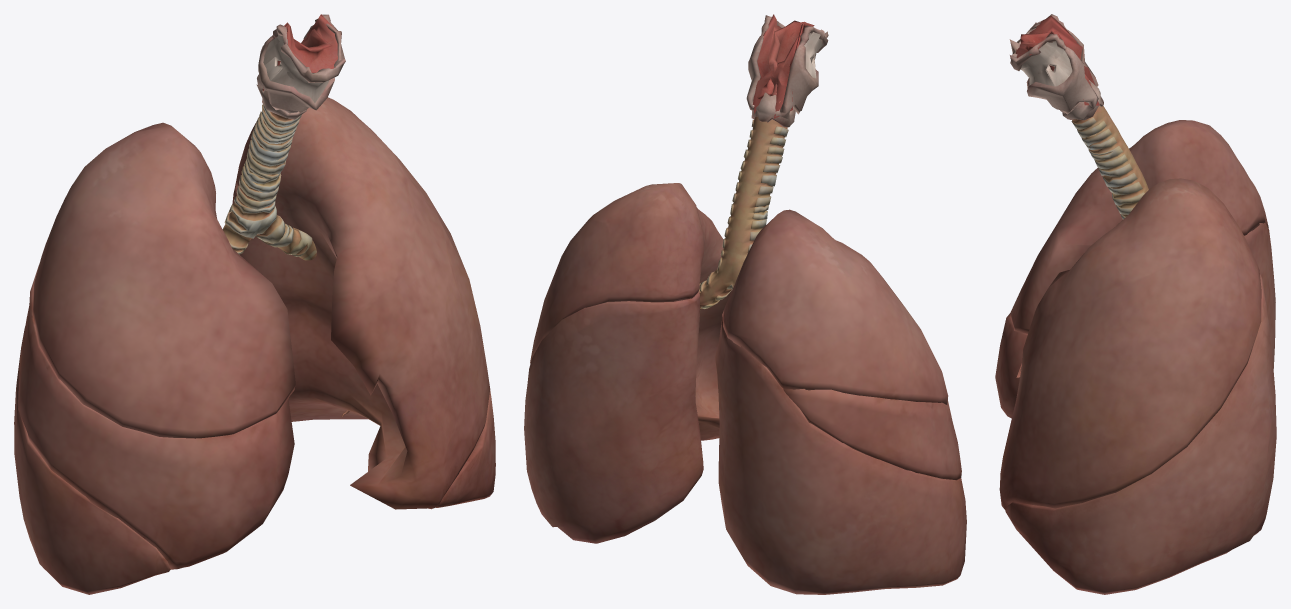
The model's file is lungs.glb.
3 renders of one model, left to right at view 1: azimuth 30°, elevation 25°; view 2: azimuth 150°, elevation 25°; view 3: azimuth 270°, elevation 25°, orthographic. The views are drawn at different scales.
Parts seen in each view (by area): view 1: Respiratoy_Lung_Geo_Right_Male_Anatomy_Pack_Complete_V05:Mal, Respiratoy_Lung_Geo_Left_Male_Anatomy_Pack_Complete_V05:Male, Respiratoy_Trachea_Geo_Male_Anatomy_Pack_Complete_V05:Male_R, Respiratoy_Thyroid_Cartliage_Geo_Male_Anatomy_Pack_Complete_, Respiratoy_Epiglotis_Geo_Male_Anatomy_Pack_Complete_V05:Male, Respiratoy_Thyroid_Membrane_Geo_Male_Anatomy_Pack_Complete_V; view 2: Respiratoy_Lung_Geo_Right_Male_Anatomy_Pack_Complete_V05:Mal, Respiratoy_Lung_Geo_Left_Male_Anatomy_Pack_Complete_V05:Male, Respiratoy_Trachea_Geo_Male_Anatomy_Pack_Complete_V05:Male_R, Respiratoy_Thyroid_Cartliage_Geo_Male_Anatomy_Pack_Complete_, Respiratoy_Epiglotis_Geo_Male_Anatomy_Pack_Complete_V05:Male; view 3: Respiratoy_Lung_Geo_Left_Male_Anatomy_Pack_Complete_V05:Male, Respiratoy_Lung_Geo_Right_Male_Anatomy_Pack_Complete_V05:Mal, Respiratoy_Trachea_Geo_Male_Anatomy_Pack_Complete_V05:Male_R, Respiratoy_Thyroid_Cartliage_Geo_Male_Anatomy_Pack_Complete_, Respiratoy_Thyroid_Membrane_Geo_Male_Anatomy_Pack_Complete_V, Respiratoy_Epiglotis_Geo_Male_Anatomy_Pack_Complete_V05:Male.
Boxes of the visible parts, x1=… form: Respiratoy_Lung_Geo_Right_Male_Anatomy_Pack_Complete_V05:Mal: x1=14, y1=122, x2=295, y2=594; Respiratoy_Lung_Geo_Left_Male_Anatomy_Pack_Complete_V05:Male: x1=232, y1=97, x2=495, y2=509; Respiratoy_Trachea_Geo_Male_Anatomy_Pack_Complete_V05:Male_R: x1=222, y1=104, x2=316, y2=260; Respiratoy_Thyroid_Cartliage_Geo_Male_Anatomy_Pack_Complete_: x1=256, y1=14, x2=345, y2=119; Respiratoy_Epiglotis_Geo_Male_Anatomy_Pack_Complete_V05:Male: x1=263, y1=14, x2=337, y2=90; Respiratoy_Thyroid_Membrane_Geo_Male_Anatomy_Pack_Complete_V: x1=263, y1=32, x2=329, y2=102; Respiratoy_Lung_Geo_Right_Male_Anatomy_Pack_Complete_V05:Mal: x1=715, y1=209, x2=966, y2=594; Respiratoy_Lung_Geo_Left_Male_Anatomy_Pack_Complete_V05:Male: x1=524, y1=183, x2=731, y2=543; Respiratoy_Trachea_Geo_Male_Anatomy_Pack_Complete_V05:Male_R: x1=699, y1=116, x2=788, y2=310; Respiratoy_Thyroid_Cartliage_Geo_Male_Anatomy_Pack_Complete_: x1=746, y1=15, x2=828, y2=127; Respiratoy_Epiglotis_Geo_Male_Anatomy_Pack_Complete_V05:Male: x1=752, y1=14, x2=814, y2=118; Respiratoy_Lung_Geo_Left_Male_Anatomy_Pack_Complete_V05:Male: x1=999, y1=178, x2=1276, y2=594; Respiratoy_Lung_Geo_Right_Male_Anatomy_Pack_Complete_V05:Mal: x1=995, y1=120, x2=1275, y2=418; Respiratoy_Trachea_Geo_Male_Anatomy_Pack_Complete_V05:Male_R: x1=1071, y1=106, x2=1148, y2=219; Respiratoy_Thyroid_Cartliage_Geo_Male_Anatomy_Pack_Complete_: x1=1009, y1=14, x2=1103, y2=120; Respiratoy_Thyroid_Membrane_Geo_Male_Anatomy_Pack_Complete_V: x1=1020, y1=41, x2=1072, y2=86; Respiratoy_Epiglotis_Geo_Male_Anatomy_Pack_Complete_V05:Male: x1=1015, y1=15, x2=1099, y2=105.
Size of the model in its own units: 0.2891 by 0.3325 by 0.1766.
Materials: 3 (3 with a texture image).
